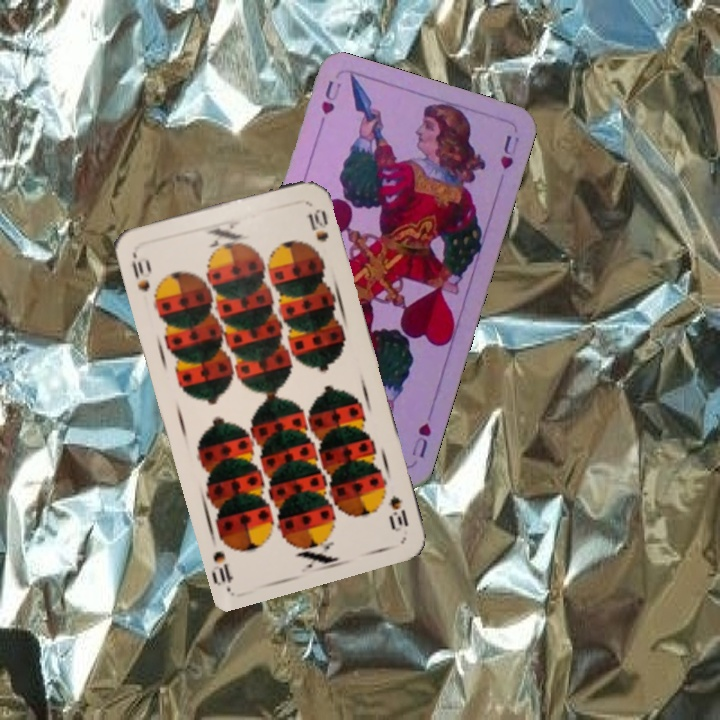HU: (314, 76, 344, 133), (407, 419, 434, 461)
S10: (384, 490, 411, 535), (127, 257, 153, 294)
